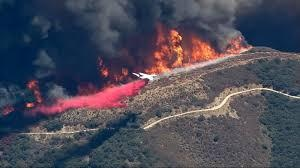fire: (145, 28, 251, 70)
